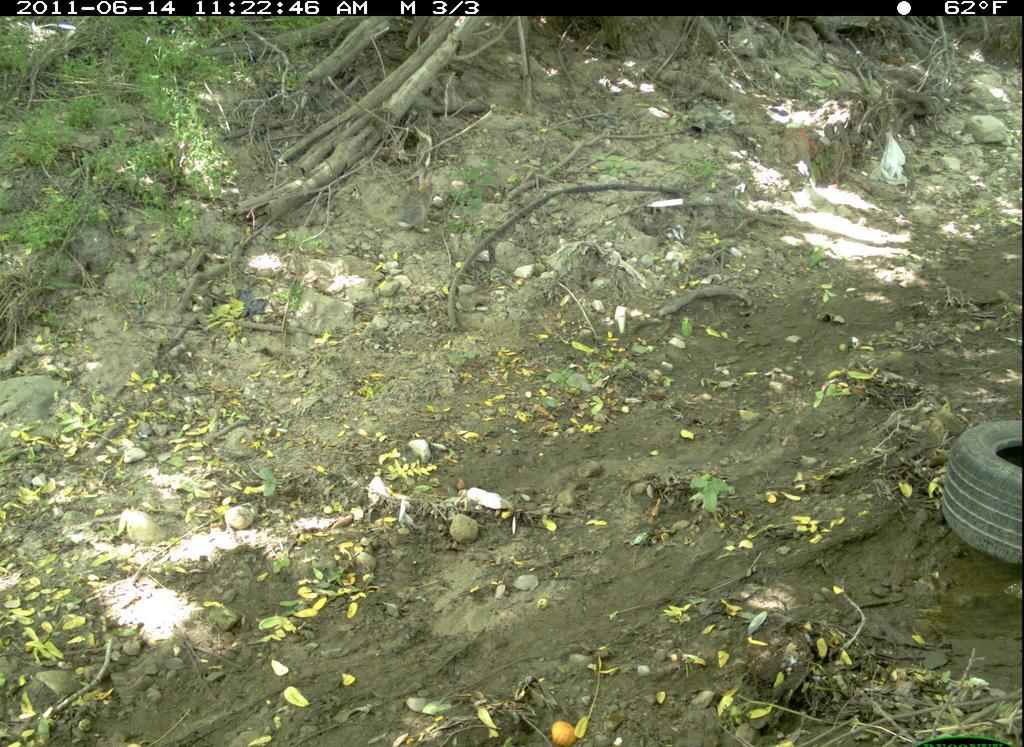rabbit: (388, 161, 442, 239)
